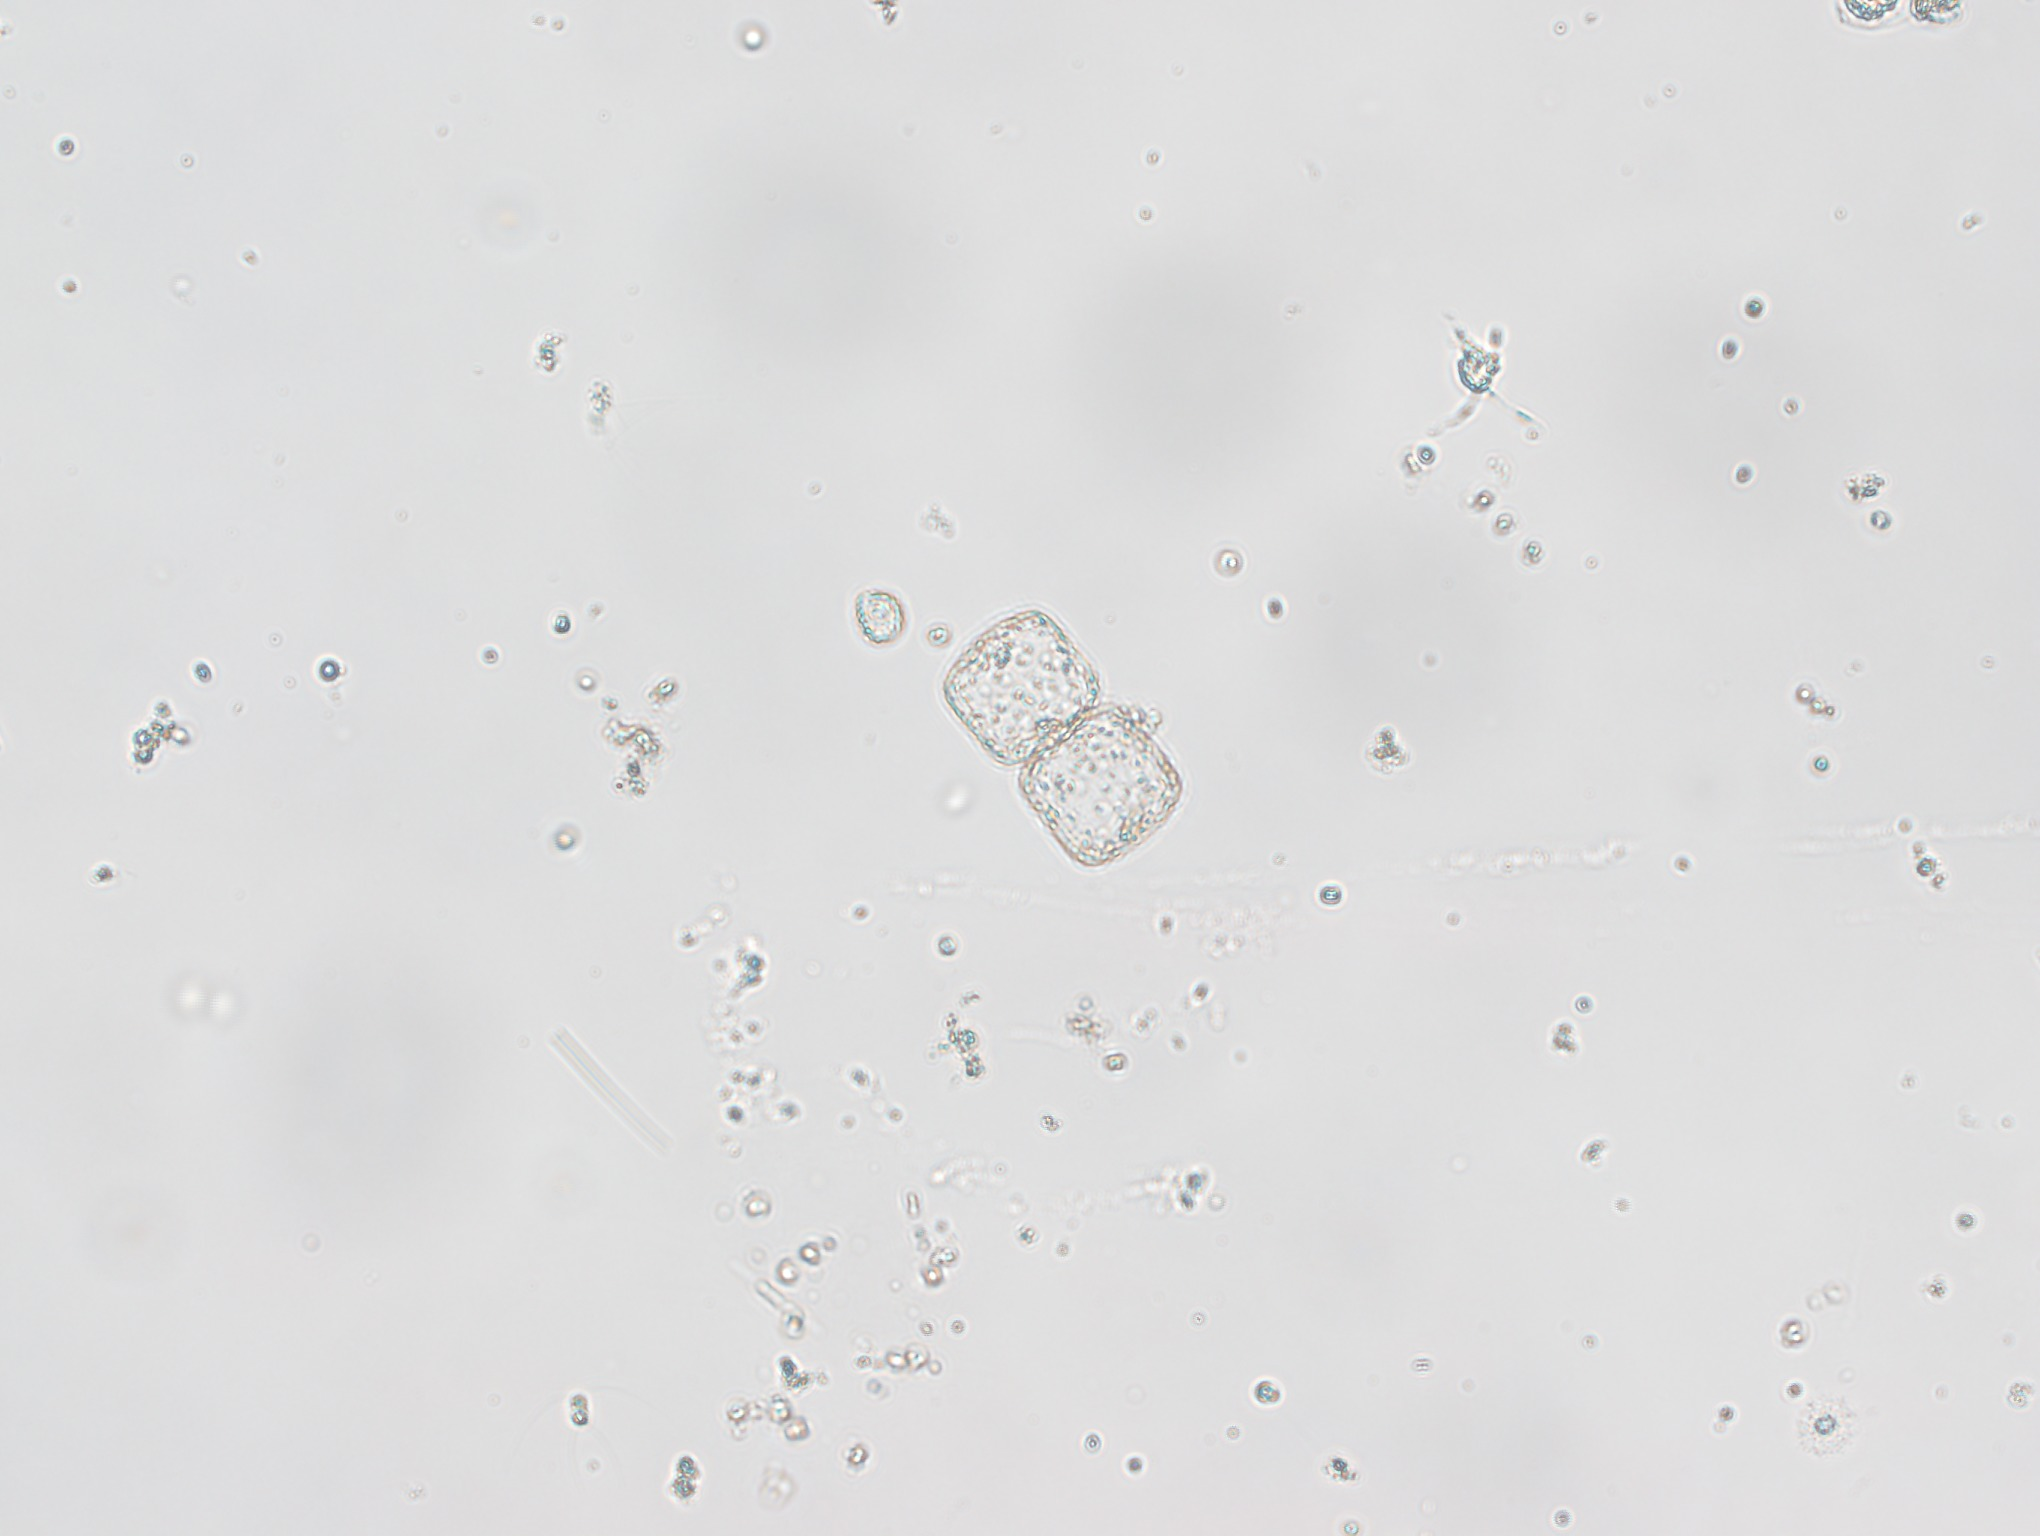detonula pumila: (919, 599, 1198, 868)
